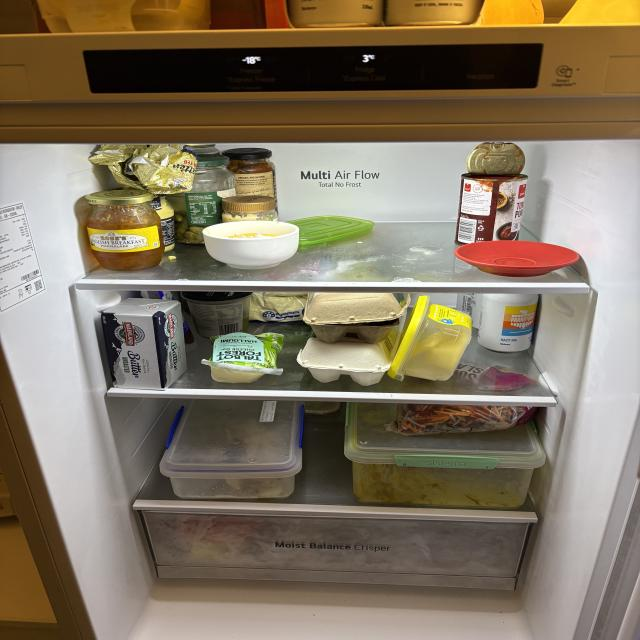Beans: (448, 140, 540, 248)
Bowl: (202, 216, 305, 268)
Cheese: (202, 330, 287, 381)
Eggs: (299, 289, 402, 387)
Energy drink: (460, 288, 543, 356)
Glass Bottle: (224, 146, 276, 219)
Jam: (71, 188, 170, 272)
Lid: (285, 214, 377, 242)
Pickle: (171, 154, 231, 246)
Pie: (96, 296, 190, 398)
Plastic bottle: (185, 291, 251, 334)
PlasticBox: (343, 402, 541, 511), (158, 397, 307, 501), (399, 284, 464, 386)
Plate: (455, 239, 582, 278)
Random: (252, 291, 307, 321)
Salad: (388, 393, 540, 437)
